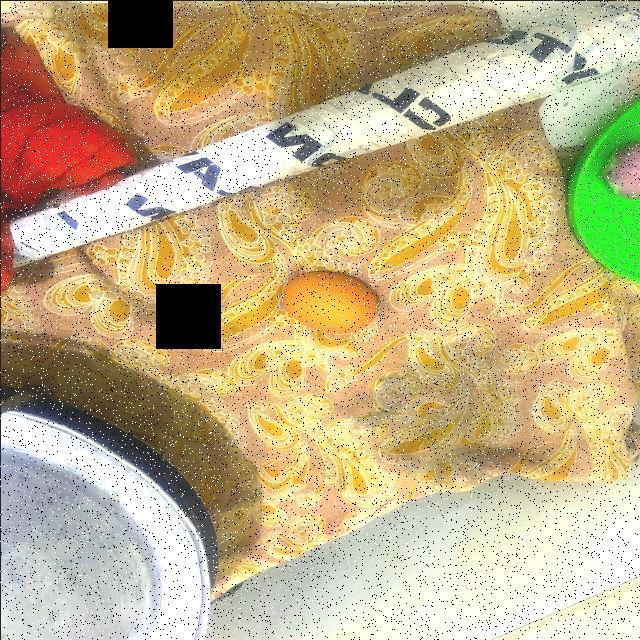egg: (282, 268, 379, 335)
